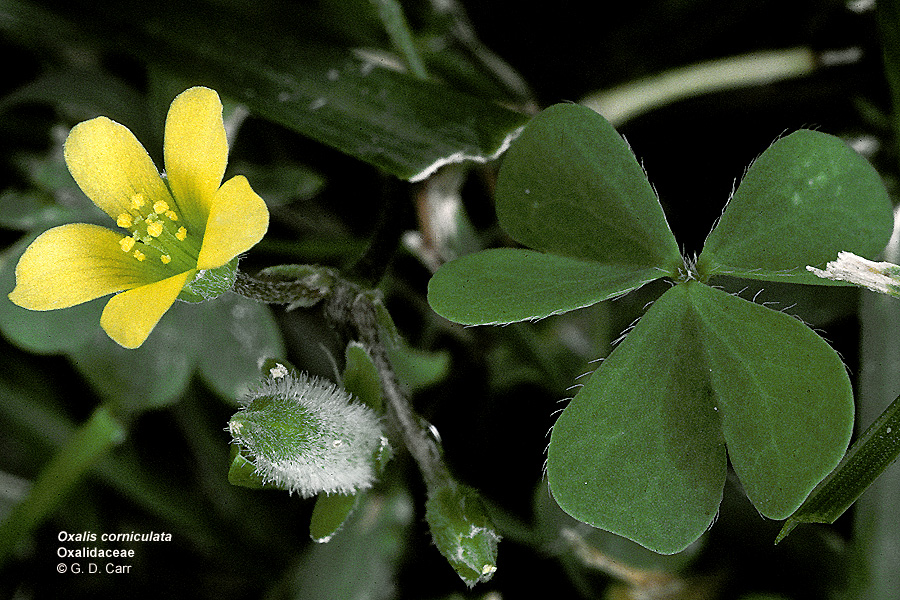oxalis: (470, 108, 895, 554)
